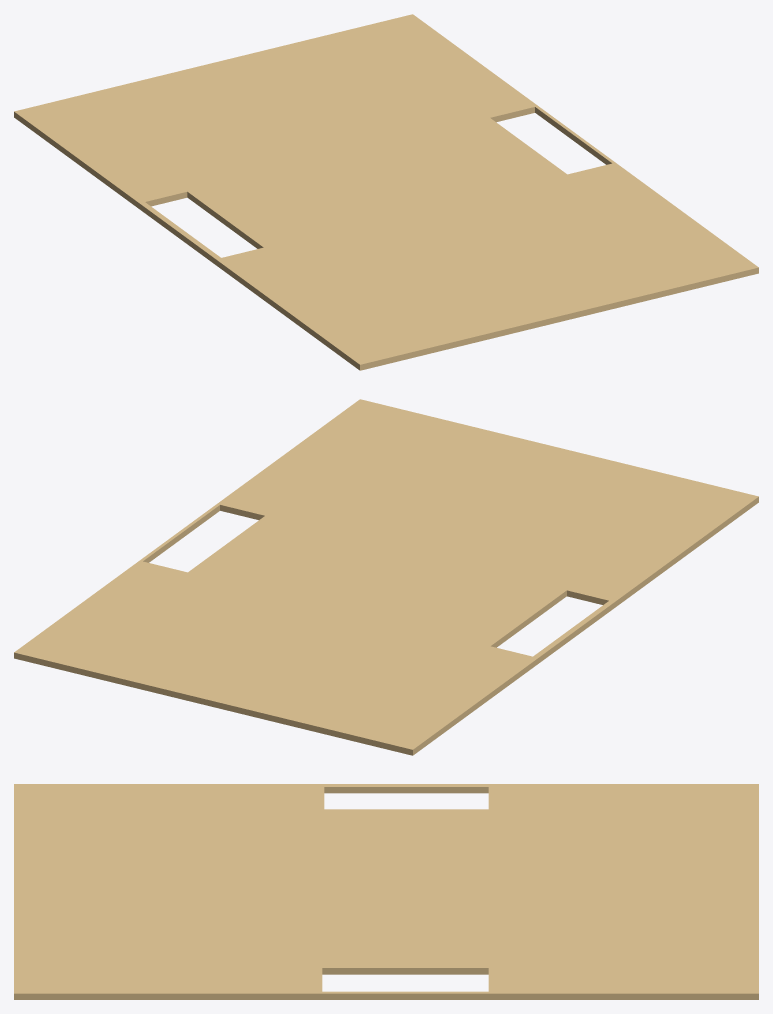
File: PisoLow.fbx
3 renders of one model, top to bottom at view 1: azimuth 30°, elevation 25°; view 2: azimuth 150°, elevation 25°; view 3: azimuth 270°, elevation 25°, orthographic. The views are drawn at different scales.
Visible parts, largest first — view 1: Piso.003; view 2: Piso.003; view 3: Piso.003.
Part boxes in pixels (box(x1,y1,x2,y2)): Piso.003: box(14, 14, 758, 370); Piso.003: box(14, 399, 758, 755); Piso.003: box(14, 784, 758, 999).
Bounding box in the file's own units: 3620 × 51.76 × 5440.
